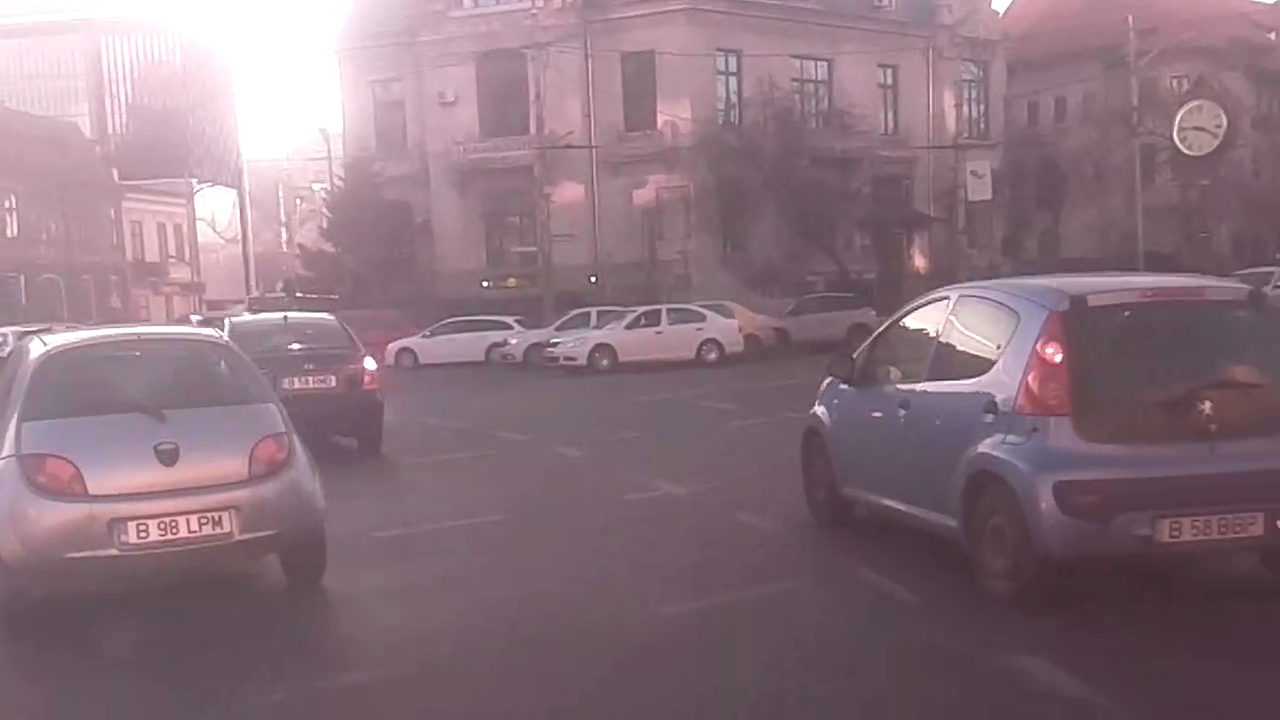license-plate: (110, 504, 235, 549), (1149, 504, 1269, 549)
